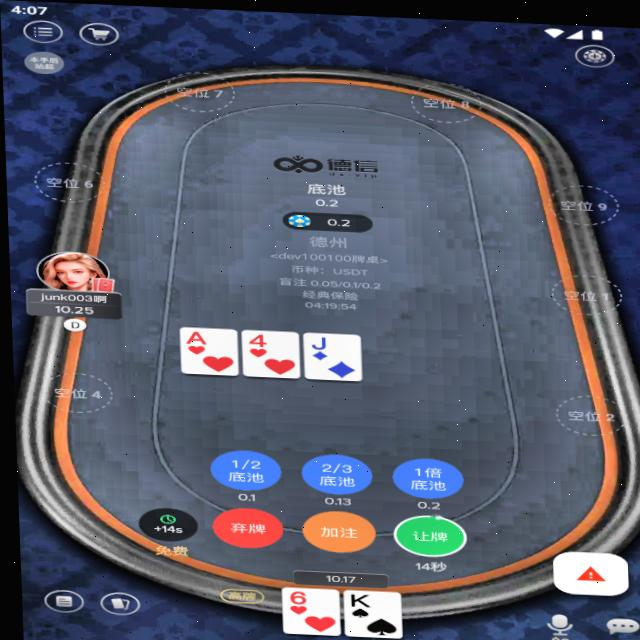4h: (245, 329, 266, 345)
6h: (280, 587, 306, 603)
Ah: (183, 327, 207, 344)
Jf: (305, 331, 329, 348)
Ks: (344, 588, 370, 605)
